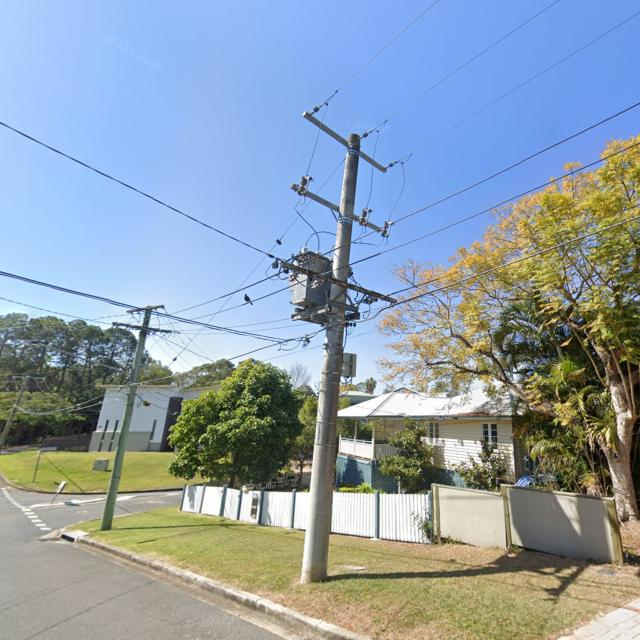HV-transmission: (295, 103, 397, 238)
LV link: (306, 272, 329, 290), (278, 264, 299, 282), (354, 297, 378, 305)
concrete-pole: (299, 132, 361, 583)
crossarm: (303, 110, 387, 173), (279, 262, 398, 305), (290, 183, 382, 234), (112, 321, 172, 334), (127, 304, 165, 312), (13, 376, 45, 381)
streetlight: (20, 338, 133, 380)
timber-pole: (100, 304, 153, 530), (0, 377, 30, 448)
transformer: (290, 246, 334, 308)
